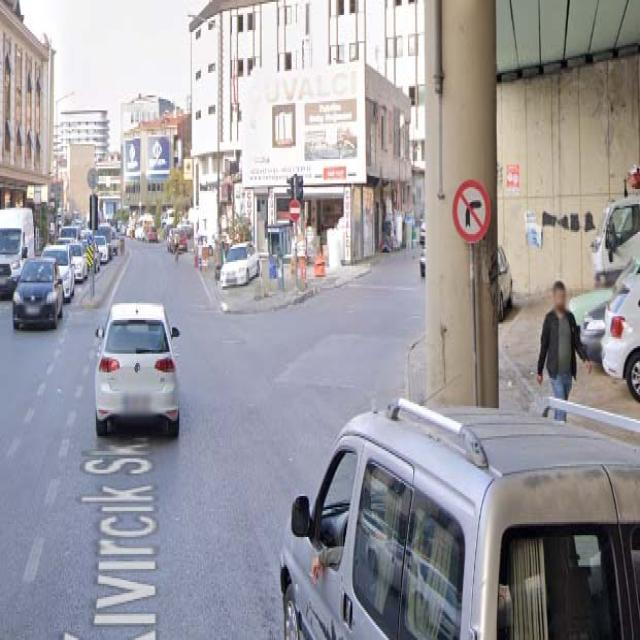girisyok: (289, 198, 302, 221)
sagadonulmez: (452, 180, 490, 243)
